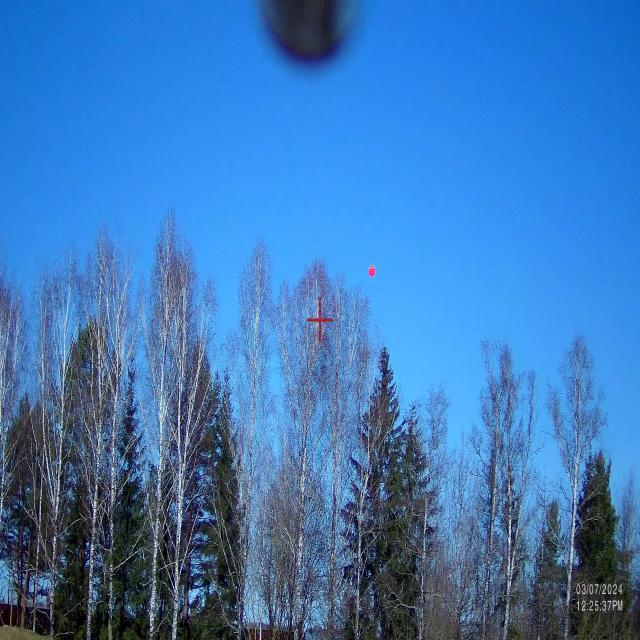entire: (359, 255, 383, 283)
